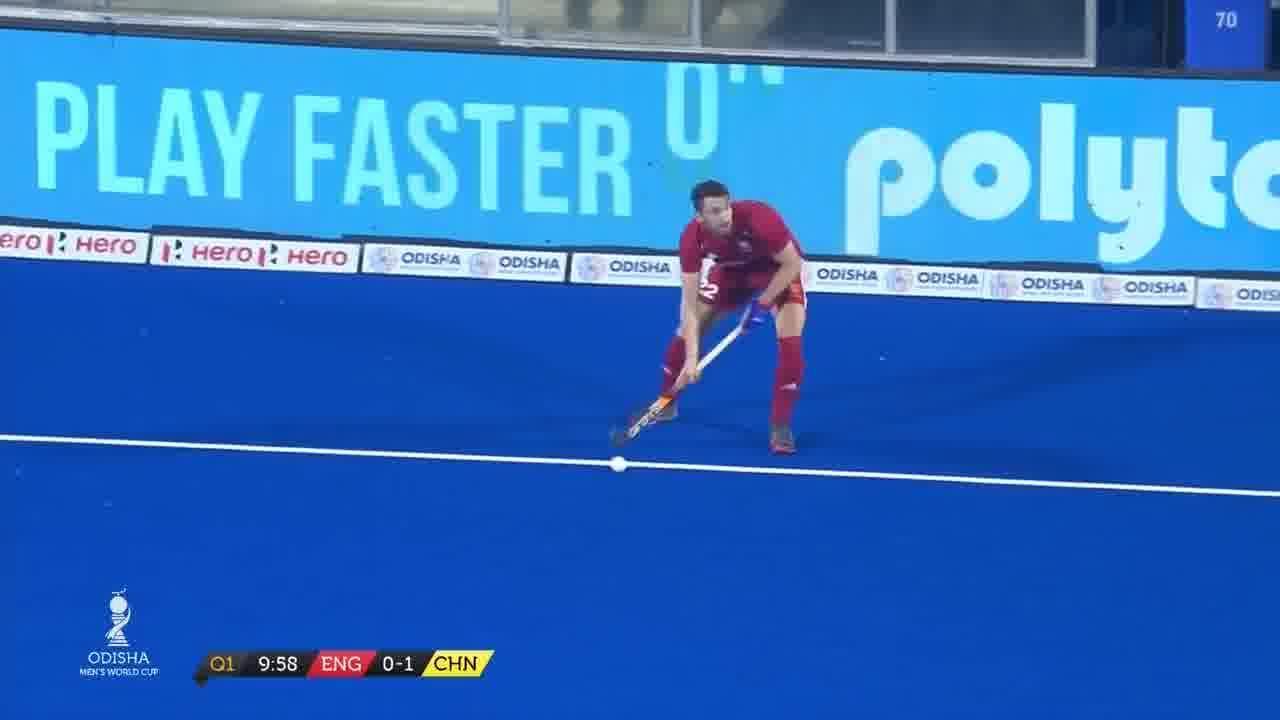ball: (608, 456, 628, 474)
